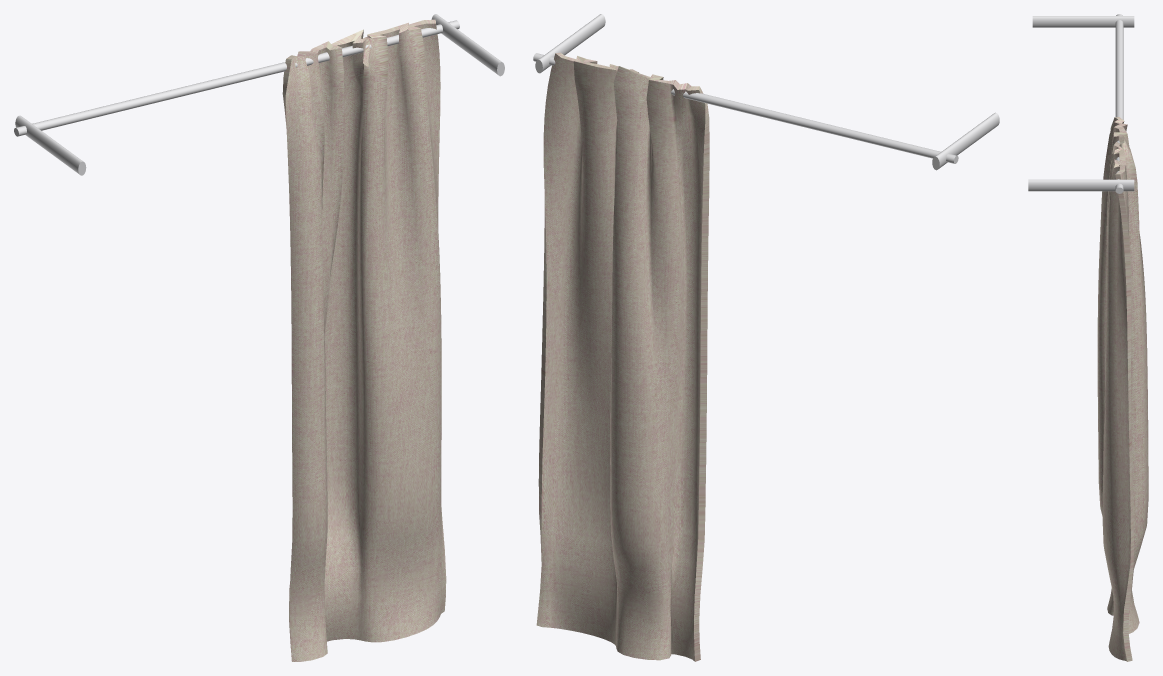
Rendered from curtain.fbx.
The picture shows the model from 3 angles, left to right: view 1: azimuth 30°, elevation 25°; view 2: azimuth 150°, elevation 25°; view 3: azimuth 270°, elevation 25°; orthographic projection. The views are drawn at different scales.
Visible parts, largest first — view 1: polySurface2, pole; view 2: polySurface2, pole; view 3: polySurface2, pole.
Part boxes in pixels (x1,y1,x2,y2): polySurface2: [282, 19, 446, 661]; pole: [14, 14, 504, 175]; polySurface2: [536, 52, 709, 661]; pole: [533, 14, 999, 170]; polySurface2: [1097, 117, 1148, 661]; pole: [1028, 14, 1134, 193].
Bounding box in the file's own units: 109 × 145 × 32.01.
